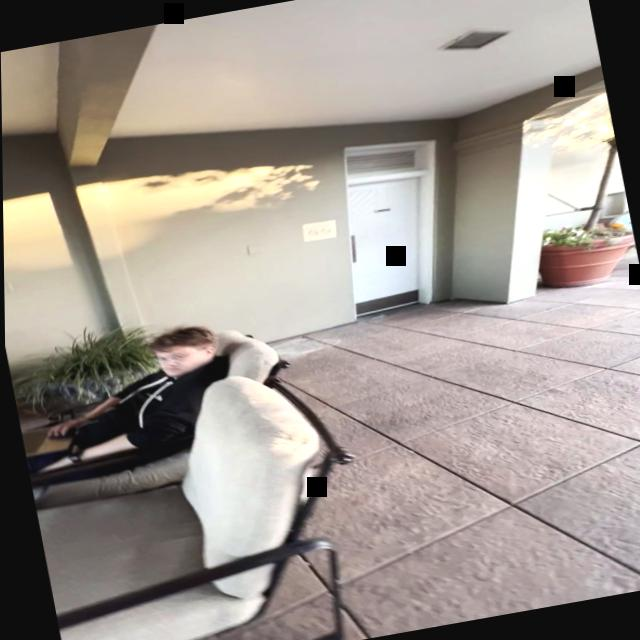NO-Mask: (152, 342, 201, 380)
